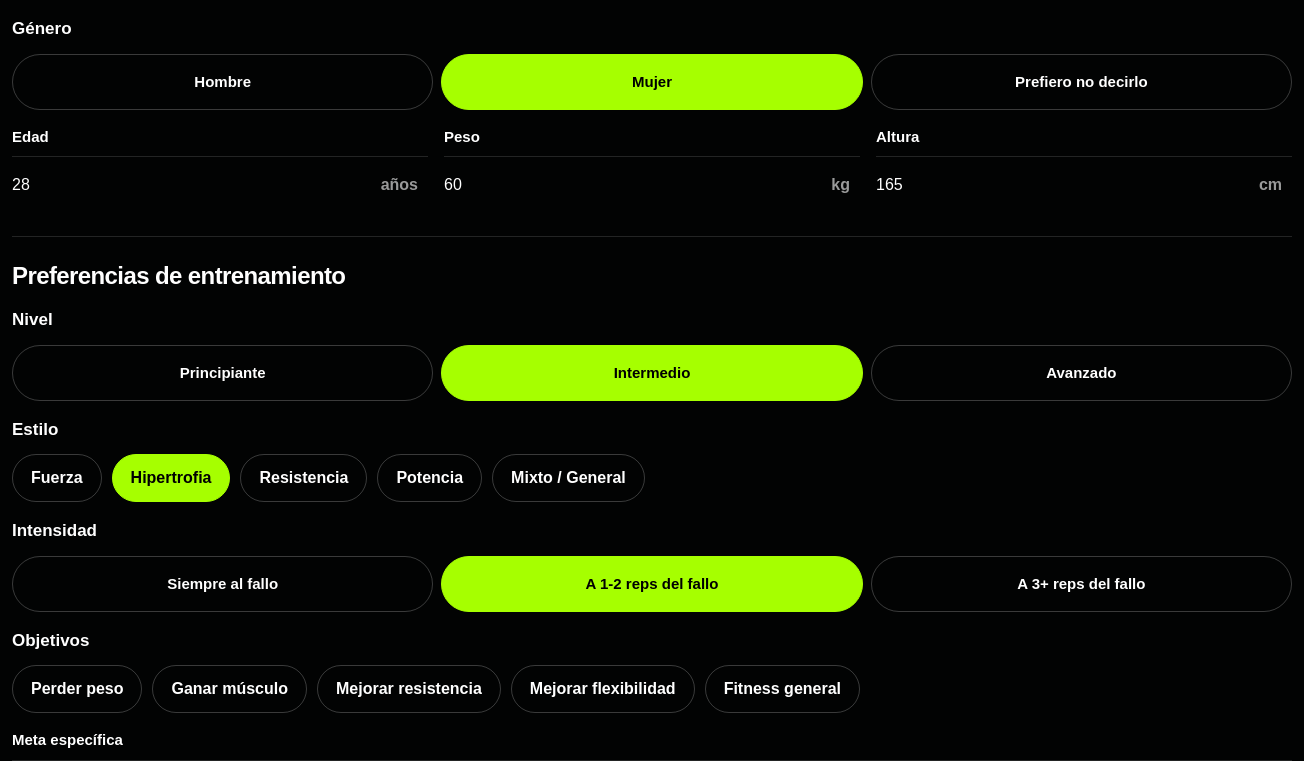
Scenario: ProfileContent › saves training preferences to the health endpoint
The width and height of the screenshot is (1304, 761).
(page scrolled)
Click the button "Avanzado": (1081, 373) [871,345,1292,401]
(page scrolled)
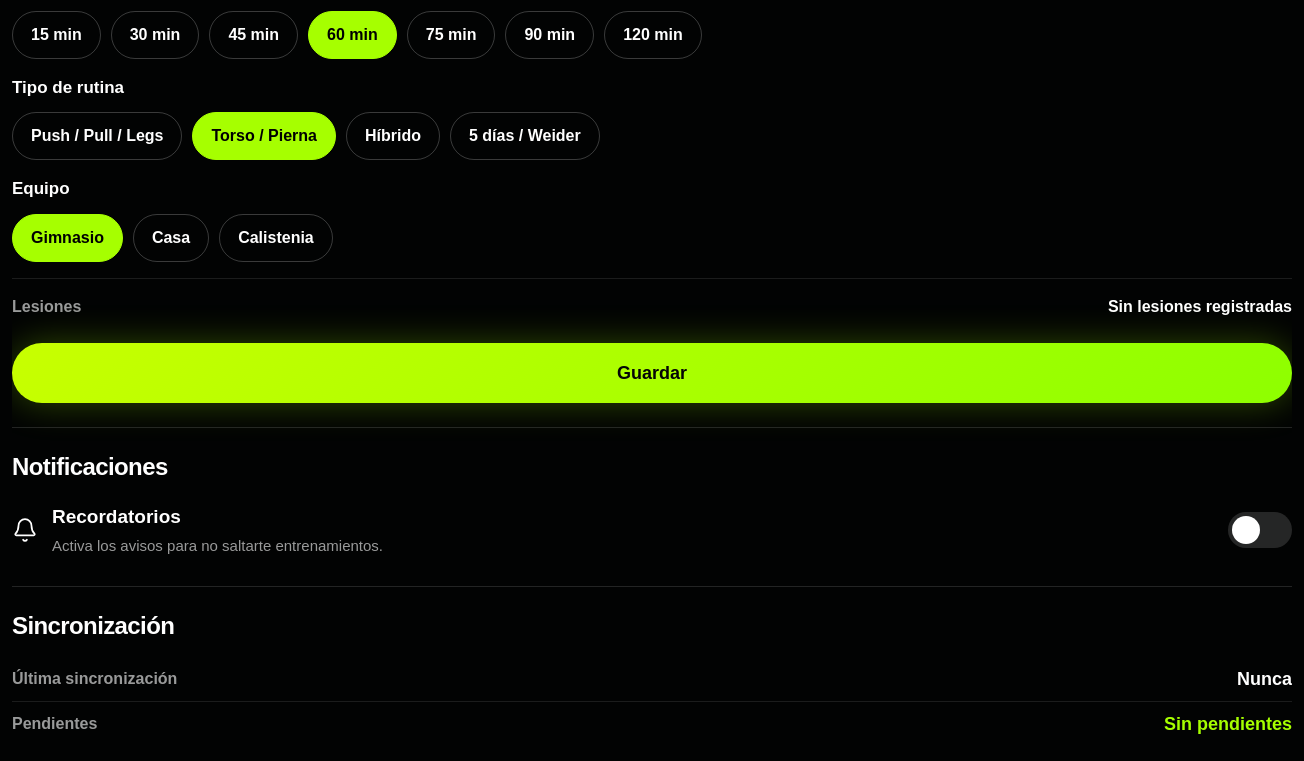
Click the button "Guardar": (652, 373) [12,343,1292,403]
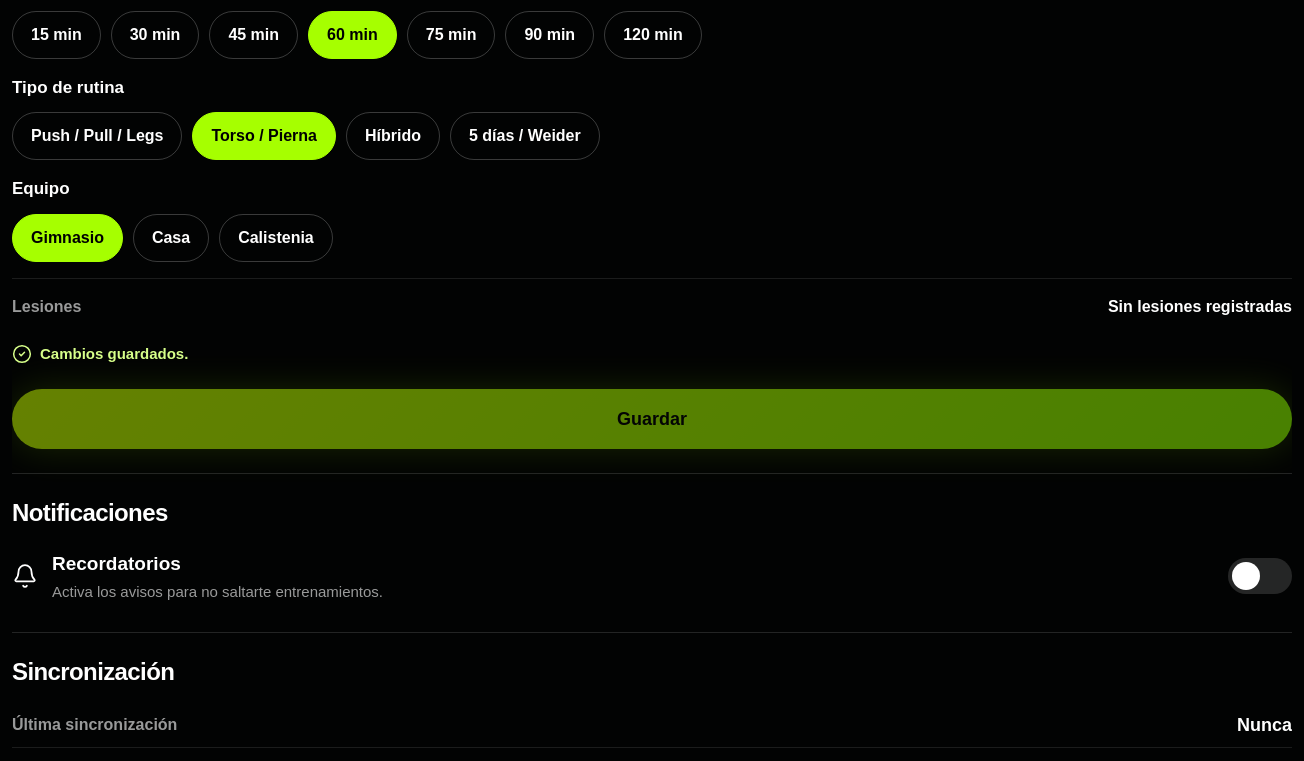
Now the text "Cambios guardados." is shown, box [40,345,188,362]
